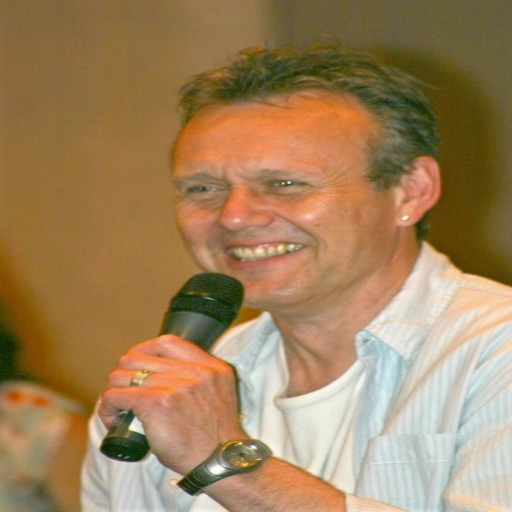hand: (86, 332, 269, 467)
